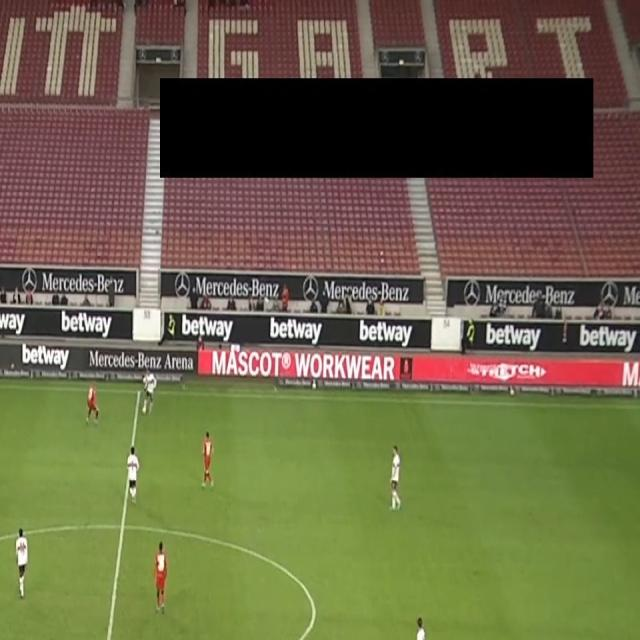ball: (141, 404, 147, 415)
